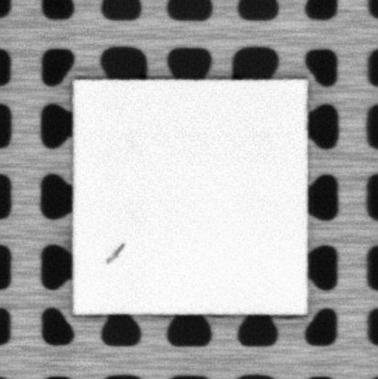DIE_INK: (106, 243, 126, 263)
